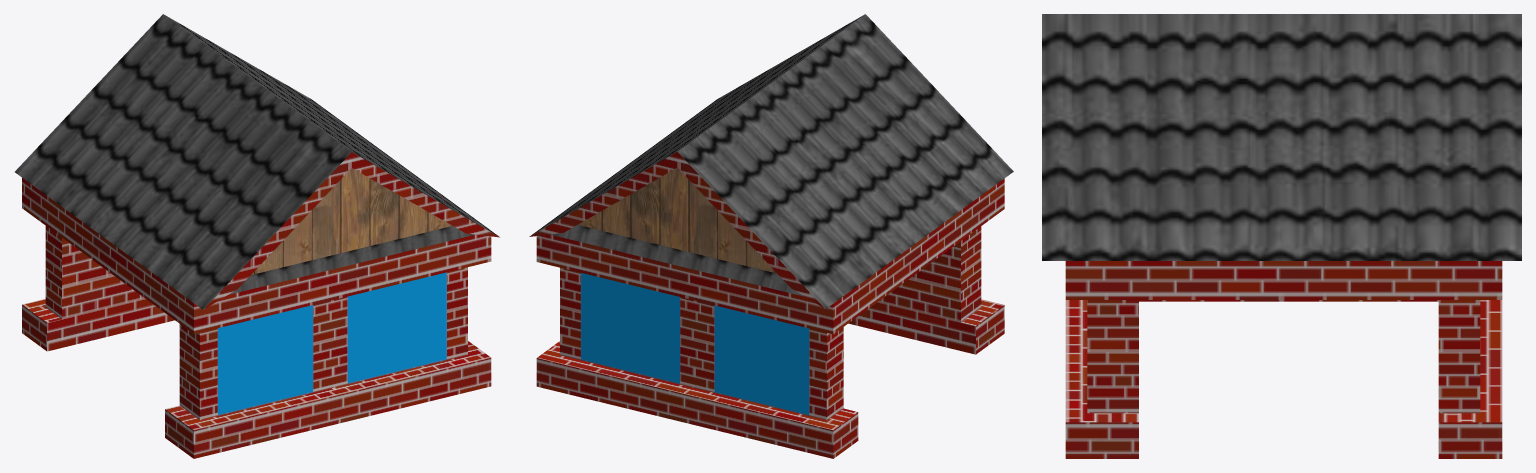
File: votingStation.fbx
3 renders of one model, left to right at view 1: azimuth 30°, elevation 25°; view 2: azimuth 150°, elevation 25°; view 3: azimuth 270°, elevation 25°, orthographic. The views are drawn at different scales.
Parts seen in each view (by area): view 1: VotingStation; view 2: VotingStation; view 3: VotingStation.
Boxes of the visible parts, x1=… form: VotingStation: x1=15, y1=14, x2=499, y2=458; VotingStation: x1=529, y1=14, x2=1013, y2=458; VotingStation: x1=1042, y1=14, x2=1521, y2=458.
Size of the model in its own units: 20 by 17.82 by 21.97.
Materials: 4 (4 with a texture image).
